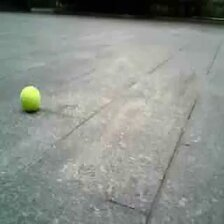tennis: (21, 86, 39, 111)
